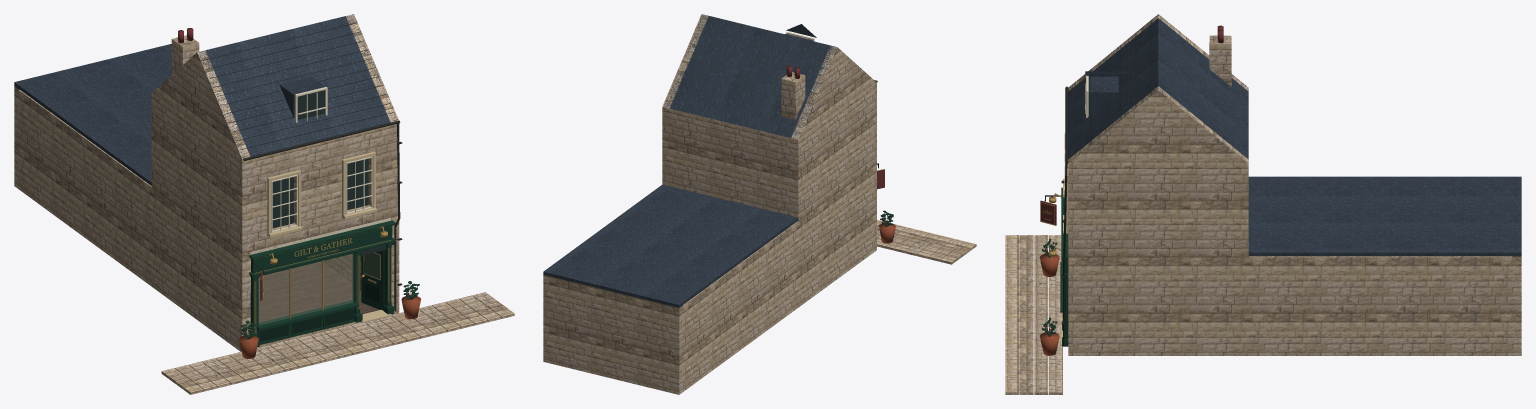
Rendered from exterior-lod.glb.
3 renders of one model, left to right at view 1: azimuth 30°, elevation 25°; view 2: azimuth 150°, elevation 25°; view 3: azimuth 270°, elevation 25°, orthographic. The views are drawn at different scales.
Parts seen in each view (by area): view 1: Limestone flank, Slate roof front, Rear roof, Upper flank, Gable, Old display glass, Oak floor, Facade stone course.001, Facade stone course, Window pier.001, Fascia timber, Ground slab (+19 smaller); view 2: Limestone flank, Rear roof, Slate roof rear, Rear wall, Upper rear wall, Upper flank, Gable, Ground slab, Chimney, Gable.001, Limestone flank.001, Upper flank.001; view 3: Limestone flank.001, Rear roof, Upper flank.001, Gable.001, Slate roof rear, Slate roof front, Ground slab, Rear wall, Chimney, Dormer cheeks, Gable, Window pier.002 (+1 smaller).
Part boxes in pixels (x1=…): Limestone flank: x1=14, y1=89, x2=250, y2=347; Slate roof front: x1=198, y1=14, x2=397, y2=157; Rear roof: x1=14, y1=44, x2=171, y2=185; Upper flank: x1=151, y1=93, x2=250, y2=255; Gable: x1=152, y1=50, x2=250, y2=159; Old display glass: x1=259, y1=254, x2=353, y2=324; Oak floor: x1=258, y1=261, x2=379, y2=322; Facade stone course.001: x1=237, y1=125, x2=397, y2=187; Facade stone course: x1=237, y1=201, x2=397, y2=256; Window pier.001: x1=294, y1=163, x2=341, y2=223; Fascia timber: x1=251, y1=226, x2=392, y2=273; Ground slab: x1=14, y1=182, x2=399, y2=351; Limestone flank: x1=672, y1=166, x2=876, y2=390; Rear roof: x1=543, y1=184, x2=798, y2=307; Slate roof rear: x1=663, y1=14, x2=836, y2=139; Rear wall: x1=543, y1=275, x2=683, y2=390; Upper rear wall: x1=669, y1=108, x2=790, y2=215; Upper flank: x1=791, y1=84, x2=876, y2=221; Gable: x1=791, y1=46, x2=876, y2=139; Ground slab: x1=543, y1=247, x2=876, y2=394; Chimney: x1=781, y1=72, x2=805, y2=119; Gable.001: x1=662, y1=14, x2=708, y2=108; Limestone flank.001: x1=543, y1=276, x2=550, y2=359; Upper flank.001: x1=662, y1=107, x2=669, y2=186; Limestone flank.001: x1=1068, y1=256, x2=1521, y2=351; Rear roof: x1=1248, y1=176, x2=1521, y2=256; Upper flank.001: x1=1068, y1=163, x2=1248, y2=259; Gable.001: x1=1068, y1=86, x2=1248, y2=163; Slate roof rear: x1=1158, y1=14, x2=1248, y2=162; Slate roof front: x1=1068, y1=16, x2=1158, y2=161; Ground slab: x1=1068, y1=352, x2=1521, y2=355; Rear wall: x1=1512, y1=256, x2=1521, y2=351; Chimney: x1=1209, y1=35, x2=1231, y2=86; Dormer cheeks: x1=1090, y1=76, x2=1118, y2=114; Gable: x1=1068, y1=14, x2=1248, y2=91; Window pier.002: x1=1068, y1=191, x2=1077, y2=241.
Size of the model in its own units: 11.98 by 9.45 by 16.64.
15 materials, 3 textured.
